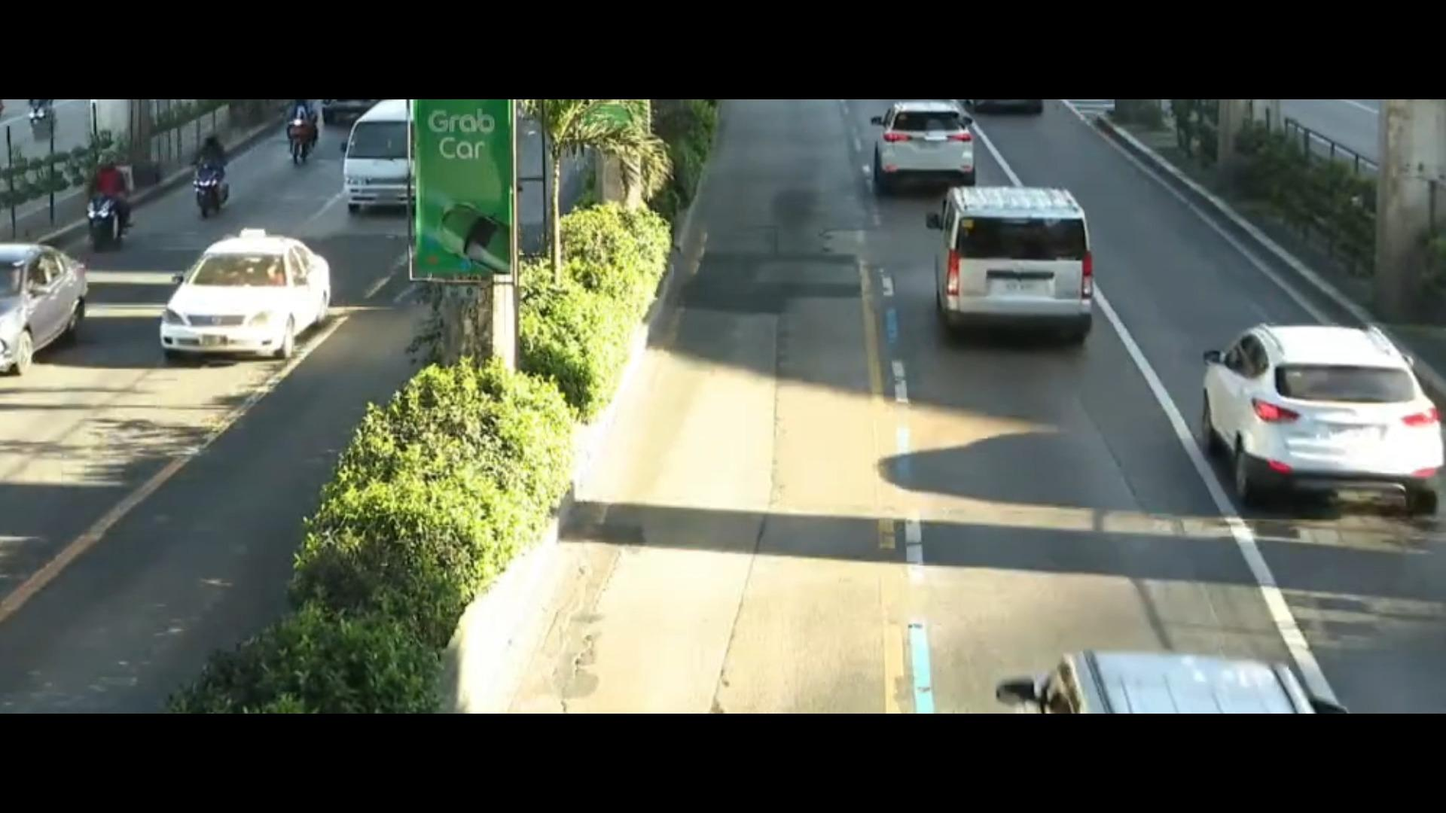Motorcycle: (177, 126, 245, 214), (73, 151, 132, 249), (269, 89, 330, 172)
SUV: (1177, 318, 1446, 535), (853, 102, 993, 194)
Sedan: (149, 215, 343, 378), (0, 239, 111, 380)
Van: (926, 177, 1104, 357), (343, 96, 432, 208)
